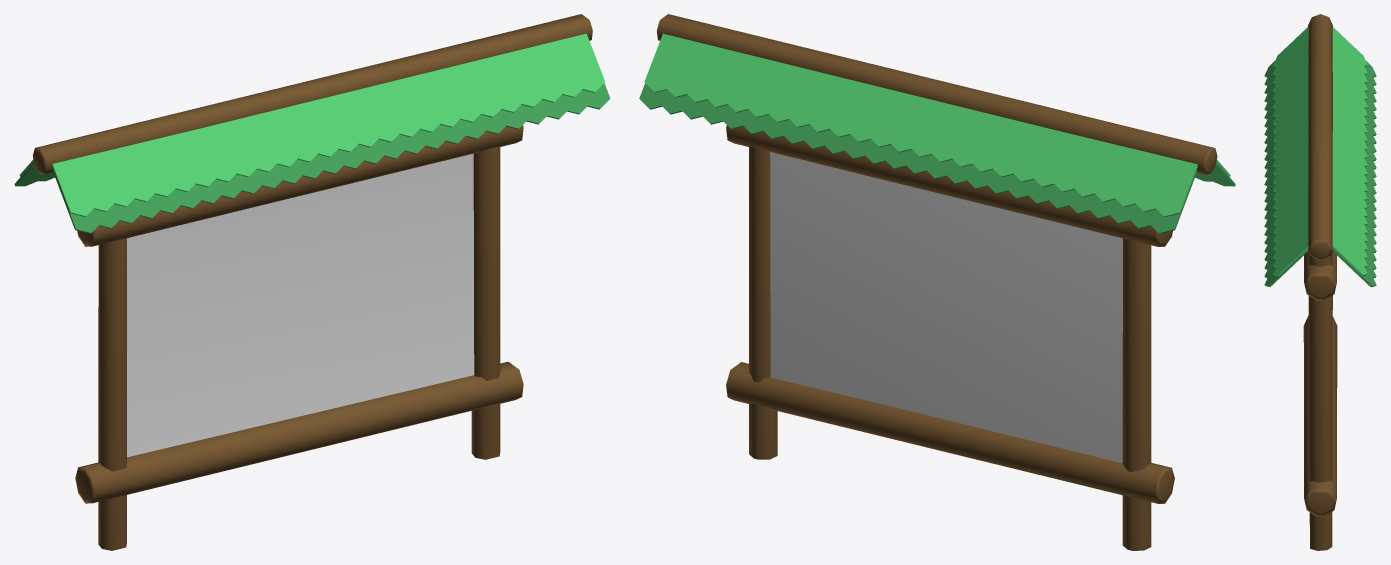
File: SmoothShadedDetective board.fbx
3 views of the same model, side by side, from view 1: azimuth 30°, elevation 25°; view 2: azimuth 150°, elevation 25°; view 3: azimuth 270°, elevation 25° (orthographic). The views are drawn at different scales.
Visible parts, largest first — view 1: Cube, Plane.001, Cylinder.004, Cylinder.002, Plane.002, Cylinder.001, Cylinder.003, Cylinder.006; view 2: Cube, Plane.004, Cylinder.004, Cylinder.002, Plane.003, Cylinder.001, Cylinder.006, Cylinder.003; view 3: Plane.001, Plane.004, Cylinder.002, Cylinder.003, Cylinder.004, Plane.003, Plane.002, Cylinder.006.
Part boxes in pixels (x1=…): Cube: x1=127, y1=153, x2=474, y2=457; Plane.001: x1=52, y1=33, x2=604, y2=216; Cylinder.004: x1=75, y1=361, x2=523, y2=503; Cylinder.002: x1=33, y1=14, x2=592, y2=174; Plane.002: x1=53, y1=83, x2=610, y2=233; Cylinder.001: x1=98, y1=238, x2=126, y2=550; Cylinder.003: x1=471, y1=146, x2=500, y2=459; Cylinder.006: x1=77, y1=125, x2=523, y2=246; Cube: x1=770, y1=152, x2=1122, y2=463; Plane.004: x1=644, y1=33, x2=1197, y2=217; Cylinder.004: x1=726, y1=362, x2=1174, y2=503; Cylinder.002: x1=657, y1=14, x2=1217, y2=174; Plane.003: x1=639, y1=83, x2=1197, y2=233; Cylinder.001: x1=1122, y1=238, x2=1151, y2=550; Cylinder.006: x1=726, y1=125, x2=1172, y2=246; Cylinder.003: x1=749, y1=146, x2=777, y2=459; Plane.001: x1=1273, y1=26, x2=1308, y2=276; Plane.004: x1=1332, y1=27, x2=1367, y2=276; Cylinder.002: x1=1308, y1=14, x2=1332, y2=260; Cylinder.003: x1=1308, y1=248, x2=1332, y2=550; Cylinder.004: x1=1303, y1=315, x2=1337, y2=516; Plane.003: x1=1333, y1=61, x2=1376, y2=286; Plane.002: x1=1264, y1=61, x2=1307, y2=286; Cylinder.006: x1=1304, y1=249, x2=1336, y2=300.
Bounding box in the file's own units: 2148 × 1555 × 453.
